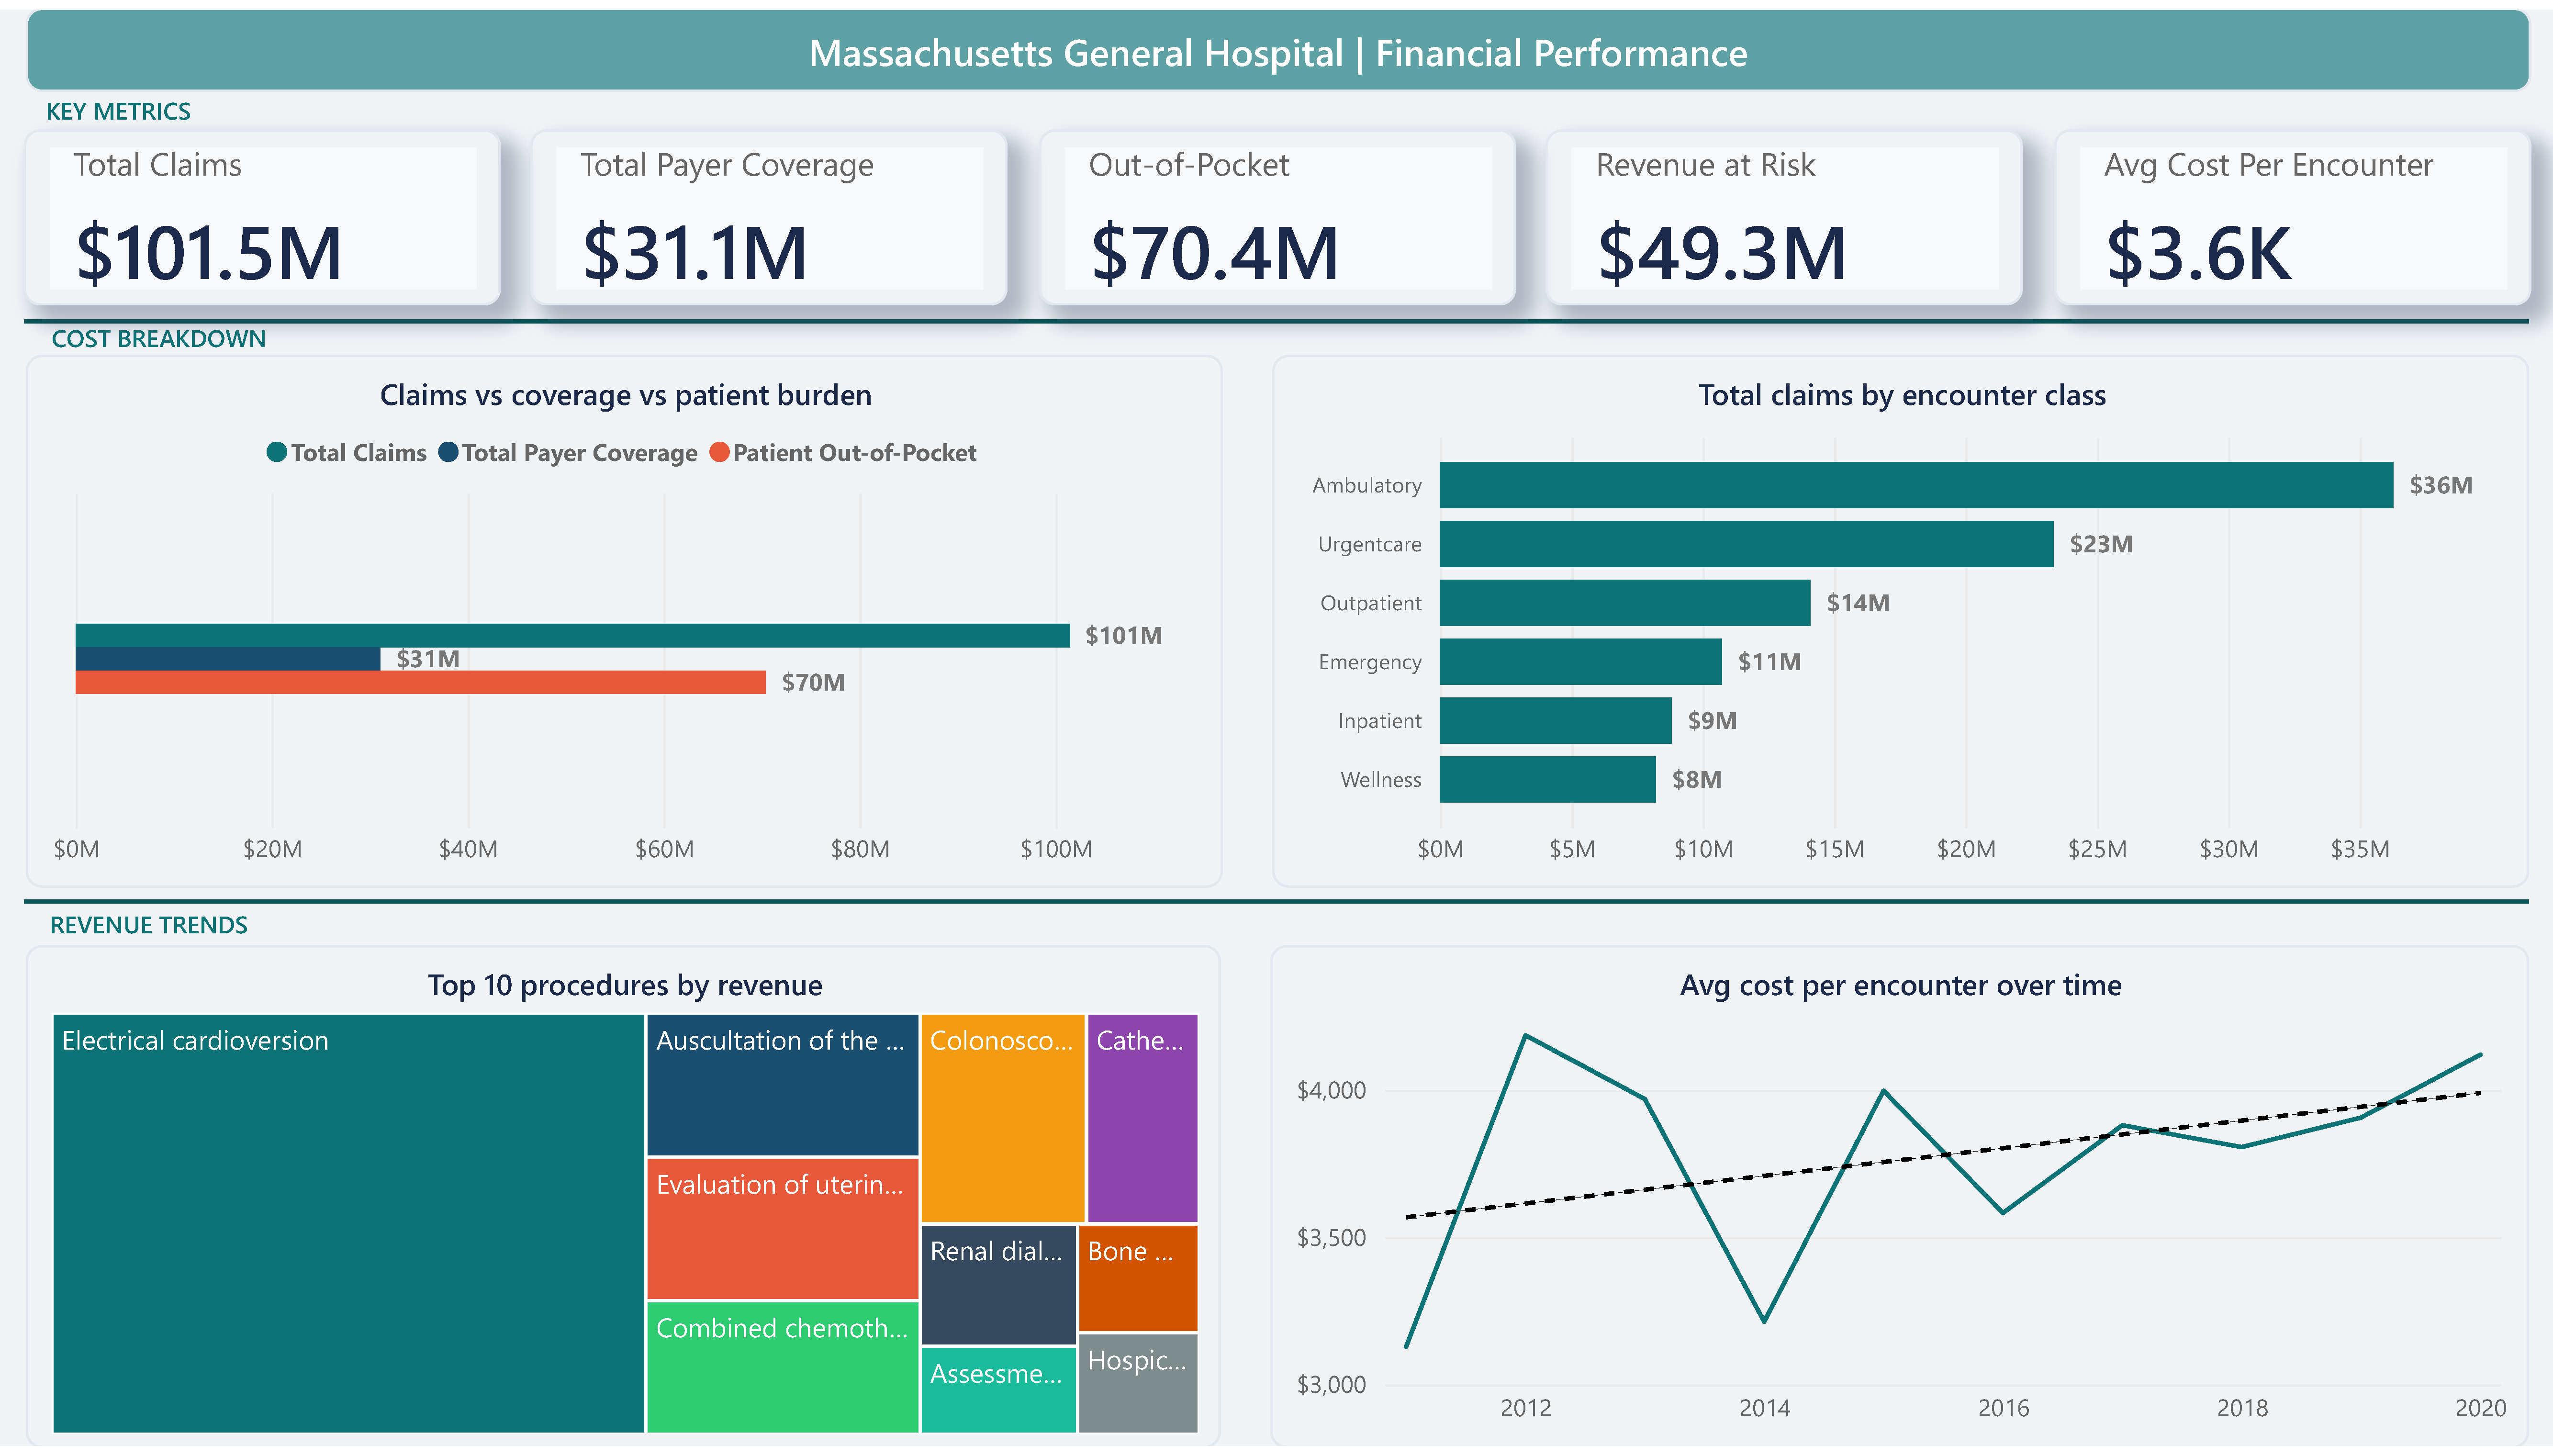

Layout of this report page (visuals, bound fields, positions):
{"tool":"powerbi","page":{"name":"Financial Performance","canvas":[1280,720],"ordinal":2},"visuals":[{"type":"textbox","box":[13.2,-1,1255.6,42],"z":0},{"type":"clusteredBarChart","title":"Claims vs coverage vs patient burden","fields":{"Y":["_Measure.Total Claims","_Measure.Total Payer Coverage","_Measure.Patient Out-of-Pocket"]},"box":[12.5,173.3,600.1,267.3],"z":0,"group":"g1"},{"type":"shape","box":[0,140,1280.2,32.3],"z":1000},{"type":"group","id":"g1","title":"Group 2","box":[12.5,173.3,1254.9,267.3],"z":2000},{"type":"treemap","title":"Top 10 procedures by revenue","fields":{"Group":["FactProcedures.Description"],"Values":["_Measure.Total Procedure Revenue"]},"box":[13,469,599.3,251.6],"z":2000,"group":"g3"},{"type":"textbox","box":[11.5,33.4,214,33.4],"z":3000},{"type":"cardVisual","fields":{"Data":["_Measure.Total Claims"]},"box":[11.8,59.8,238.9,87.9],"z":4000,"group":"g2"},{"type":"textbox","box":[13.6,147.2,215.1,34.5],"z":4000},{"type":"group","id":"g2","title":"Group 1","box":[11.8,59.8,1256.4,87.9],"z":5000},{"type":"cardVisual","fields":{"Data":["_Measure.Total Payer Coverage"]},"box":[266.2,59.8,238.9,87.9],"z":5000,"group":"g2"},{"type":"cardVisual","title":"Avg LOS (Hours)","fields":{"Data":["_Measure.Patient Out-of-Pocket"]},"box":[520.6,59.8,238.9,87.9],"z":6000,"group":"g2"},{"type":"group","id":"g3","title":"Group 3","box":[13,469,1254.9,251.6],"z":6000},{"type":"lineChart","title":"Avg cost per encounter over time","fields":{"Category":["DimDate.FiscalYear"],"Y":["_Measure.Avg Cost Per Encounter"]},"box":[637.3,469,630.6,251.6],"z":6002,"group":"g3"},{"type":"clusteredBarChart","title":"Total claims by encounter class","fields":{"Y":["_Measure.Total Claims"],"Category":["DimEncounterClass.EncounterClass"]},"box":[637.7,173.3,629.8,267.3],"z":6004,"group":"g1"},{"type":"cardVisual","fields":{"Data":["_Measure.Revenue at Risk (Uninsured)"]},"box":[774.9,59.8,238.9,87.9],"z":7000,"group":"g2"},{"type":"textbox","box":[12.5,440.6,215.1,34.5],"z":7000},{"type":"cardVisual","fields":{"Data":["_Measure.Avg Cost Per Encounter"]},"box":[1029.3,59.8,238.9,87.9],"z":8000,"group":"g2"},{"type":"shape","box":[0,436.4,1280,21.9],"z":8000}]}

Visuals, with their boxes in screenshot pixels (x1, y1, x2, y2), scaled from the page's 1280x720 canvas onto the 2553x1456 screenshot:
textbox: (left=26, top=0, right=2531, bottom=83)
"Claims vs coverage vs patient burden" clusteredBarChart: (left=25, top=350, right=1222, bottom=891)
shape: (left=0, top=283, right=2553, bottom=348)
"Group 2" group: (left=25, top=350, right=2528, bottom=891)
"Top 10 procedures by revenue" treemap: (left=26, top=949, right=1221, bottom=1456)
textbox: (left=23, top=67, right=450, bottom=135)
cardVisual - _Measure.Total Claims: (left=23, top=121, right=500, bottom=299)
textbox: (left=27, top=298, right=456, bottom=368)
"Group 1" group: (left=23, top=121, right=2530, bottom=299)
cardVisual - _Measure.Total Payer Coverage: (left=531, top=121, right=1008, bottom=299)
"Avg LOS (Hours)" cardVisual: (left=1038, top=121, right=1515, bottom=299)
"Group 3" group: (left=26, top=949, right=2529, bottom=1456)
"Avg cost per encounter over time" lineChart: (left=1271, top=949, right=2529, bottom=1456)
"Total claims by encounter class" clusteredBarChart: (left=1272, top=350, right=2528, bottom=891)
cardVisual - _Measure.Revenue at Risk (Uninsured): (left=1545, top=121, right=2022, bottom=299)
textbox: (left=25, top=891, right=454, bottom=961)
cardVisual - _Measure.Avg Cost Per Encounter: (left=2053, top=121, right=2530, bottom=299)
shape: (left=0, top=883, right=2553, bottom=927)
